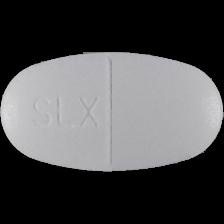65649-701: (0, 0, 224, 224)
